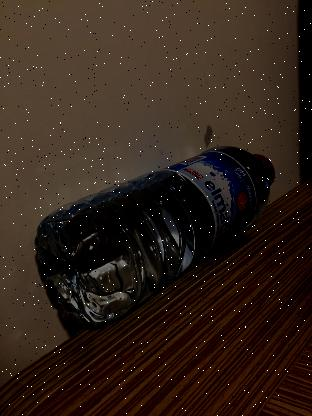Plastic Bottle: (35, 146, 274, 325)
